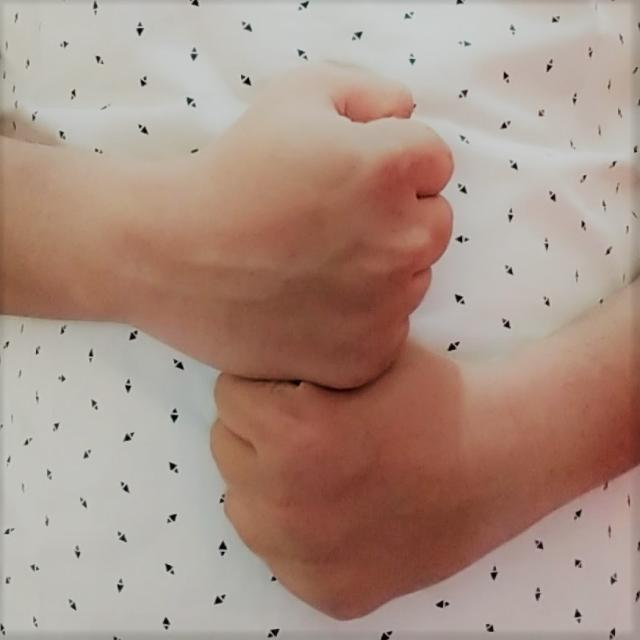G: (162, 55, 505, 630)
